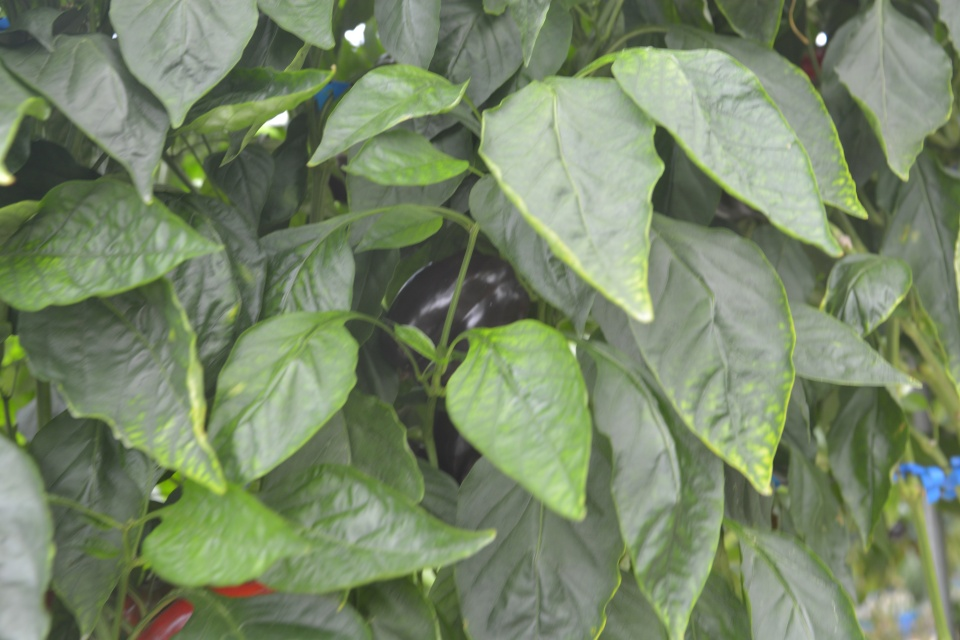fruit: (380, 247, 532, 372), (123, 577, 276, 640)
